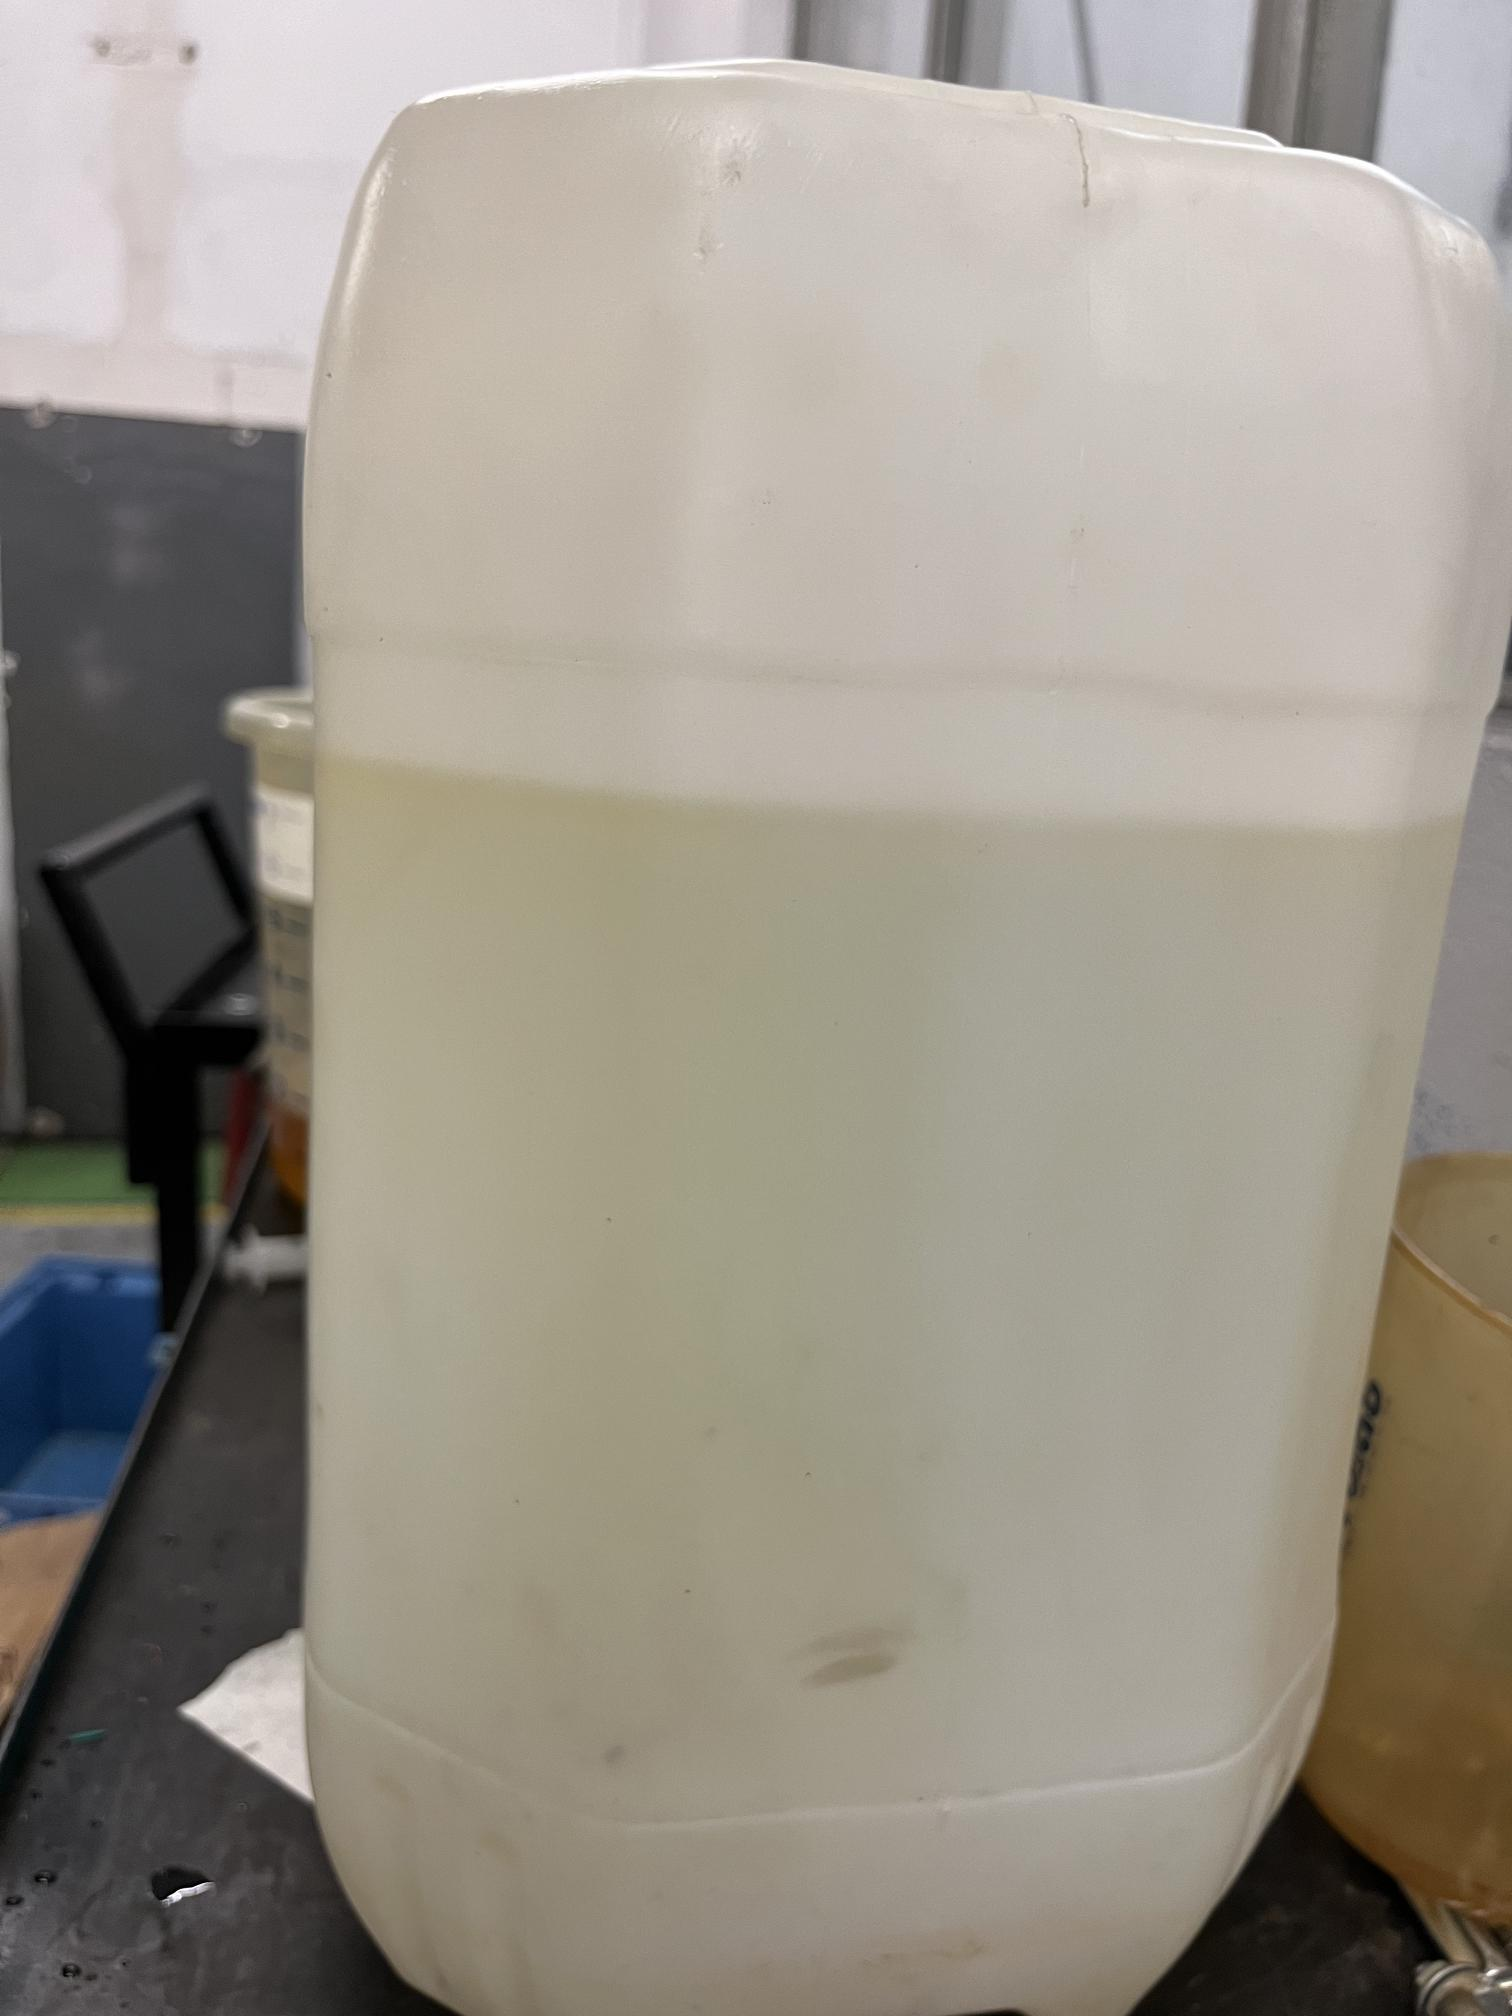Galao: (270, 90, 1420, 1960)
